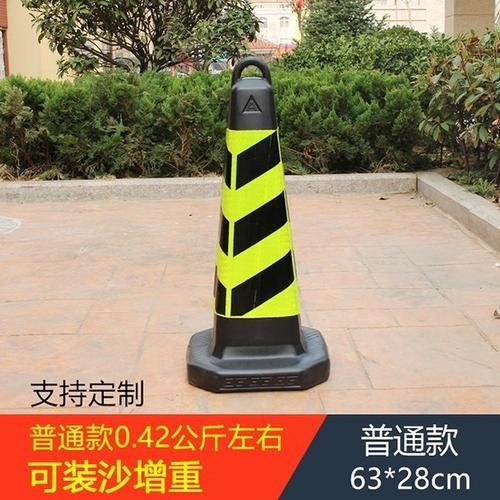cone_barrel: (180, 63, 332, 388)
